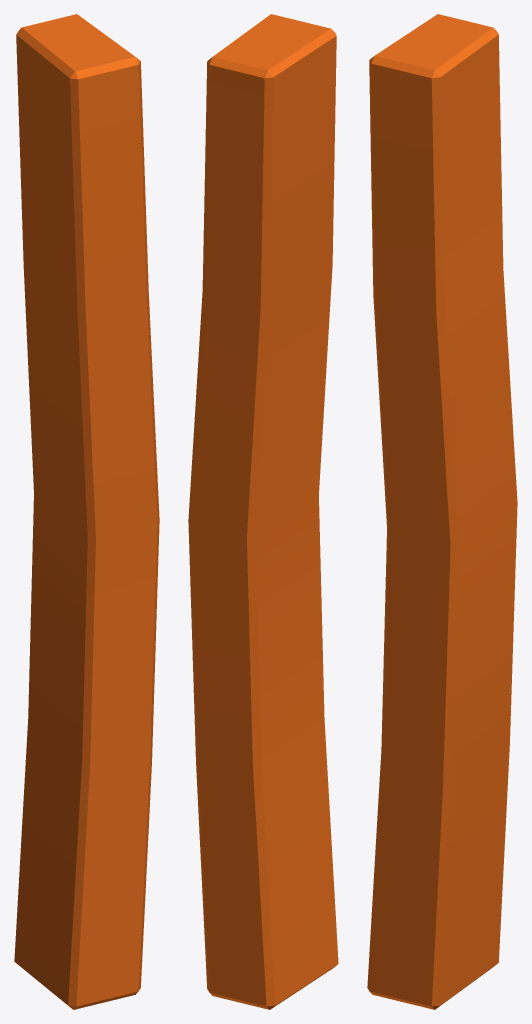
Rendered from PlancheFarme.fbx.
The picture shows the model from 3 angles, left to right: view 1: azimuth 30°, elevation 25°; view 2: azimuth 150°, elevation 25°; view 3: azimuth 330°, elevation 25°; orthographic projection.
Visible parts, largest first — view 1: PlancheFerme; view 2: PlancheFerme; view 3: PlancheFerme.
Part boxes in pixels (box(x1,y1,x2,y2)): PlancheFerme: box(14, 14, 159, 1009); PlancheFerme: box(188, 14, 338, 1009); PlancheFerme: box(367, 14, 517, 1009).
Bounding box in the file's own units: 61.24 × 600 × 76.96.
